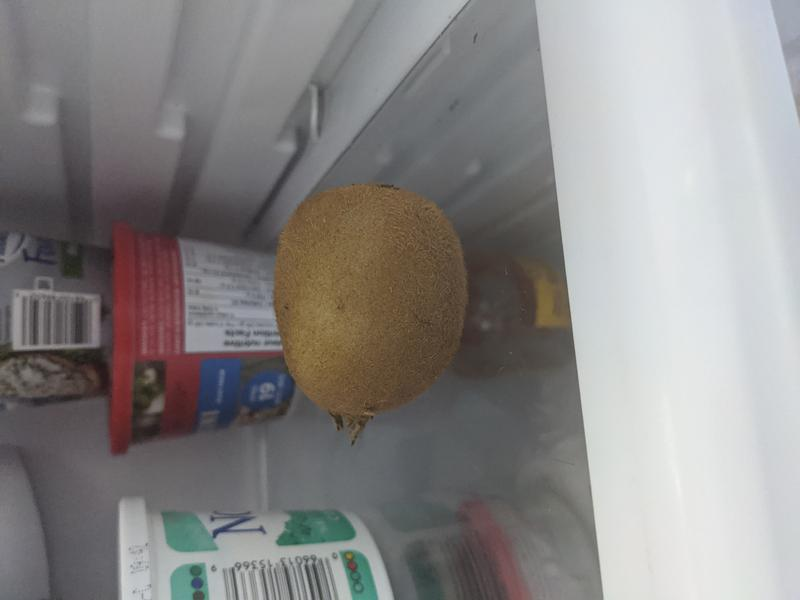kiwi: (273, 184, 469, 421)
